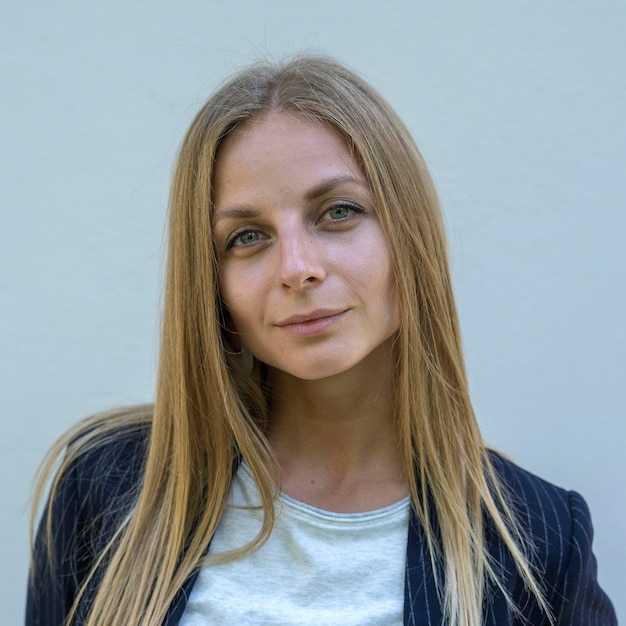teen: (168, 71, 463, 395)
